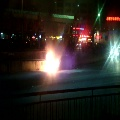fire: (39, 50, 59, 74)
